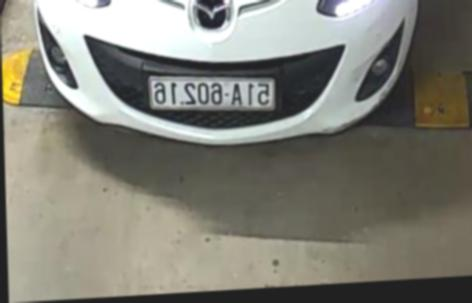License_Plate: (143, 66, 288, 119)
